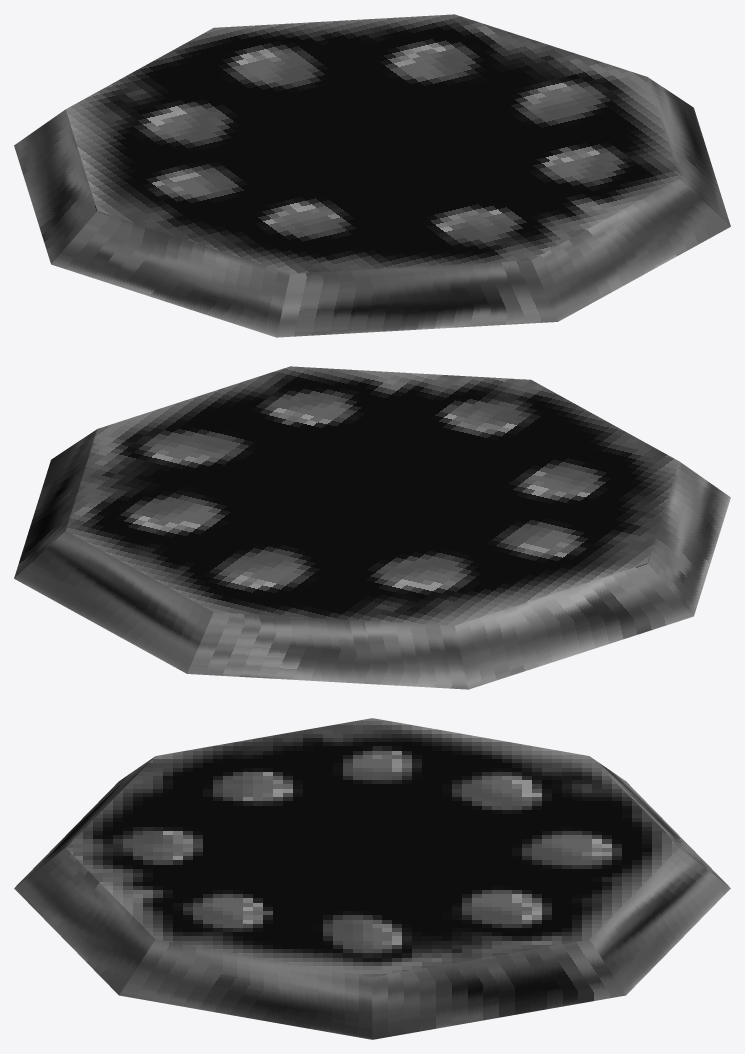
The model's file is shield.gltf.
3 views of the same model, one above another, from view 1: azimuth 30°, elevation 25°; view 2: azimuth 150°, elevation 25°; view 3: azimuth 270°, elevation 25° (orthographic). The views are drawn at different scales.
Visible parts, largest first — view 1: shield; view 2: shield; view 3: shield.
Boxes of the visible parts, x1,y1,x2,y2 form: shield: (14, 14, 730, 337); shield: (14, 366, 730, 689); shield: (14, 718, 730, 1039).
Size of the model in its own units: 2 by 0.125 by 2.
Materials: 1 (1 with a texture image).
